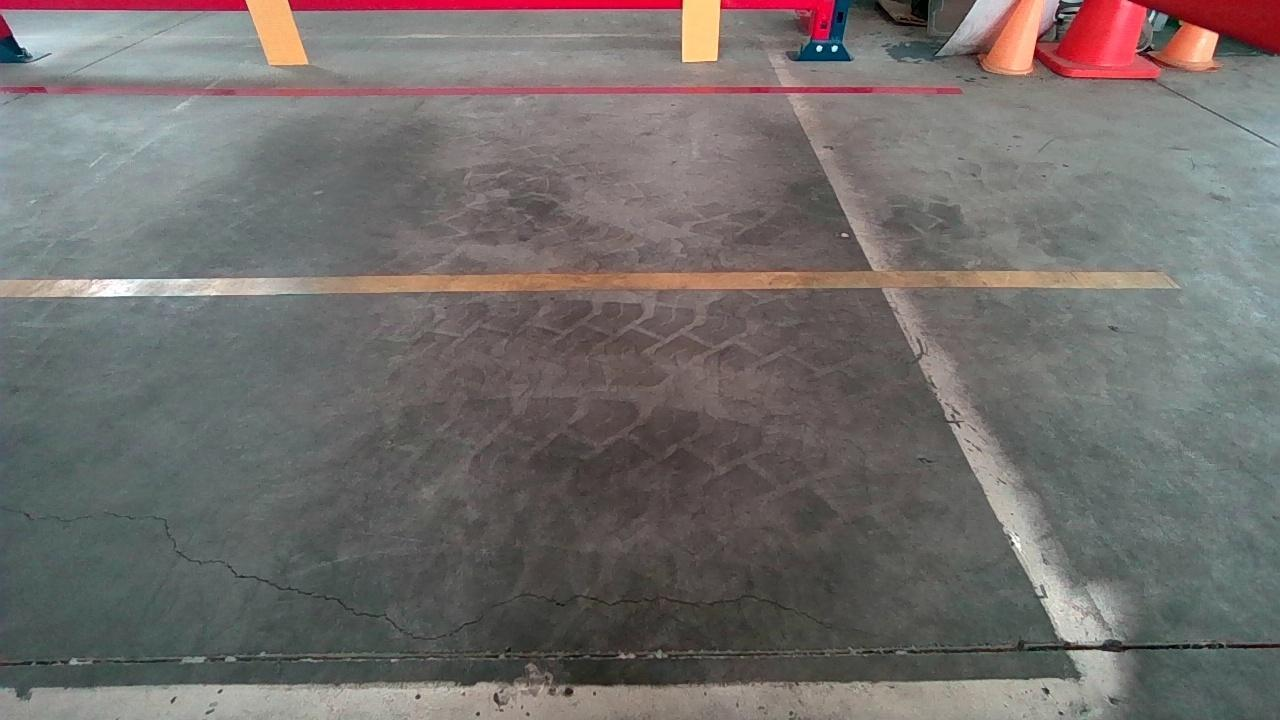orange_strip: (244, 0, 309, 63), (681, 0, 719, 60)
red_line: (0, 87, 966, 95)
yellow_line: (0, 268, 1178, 296)
